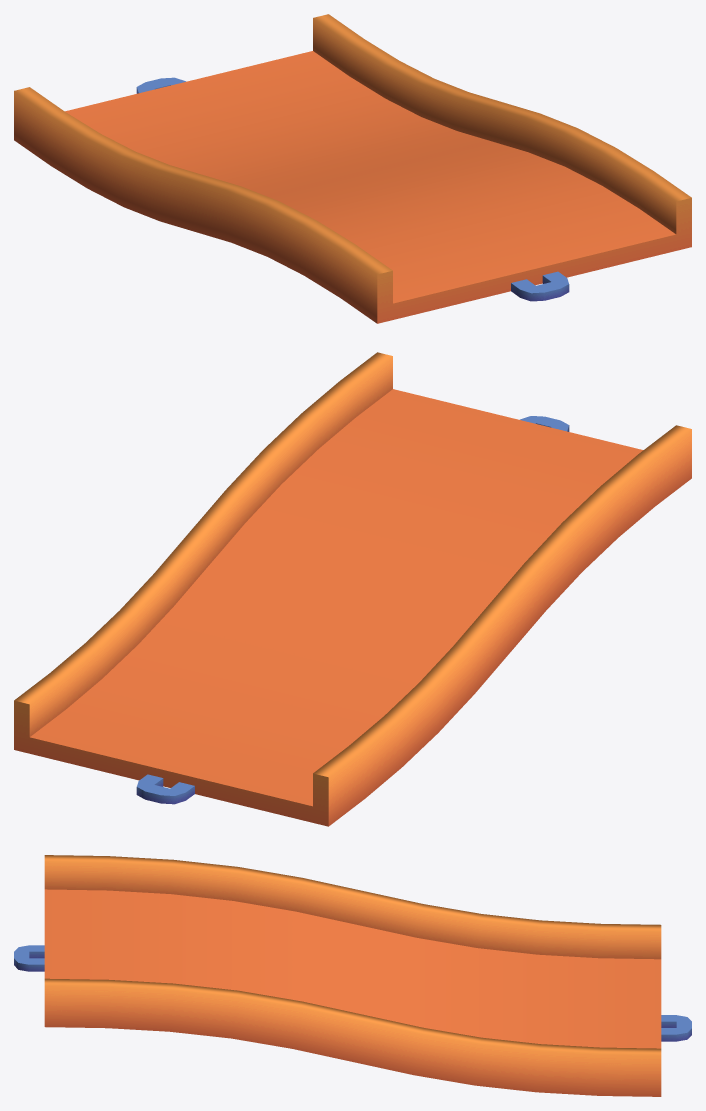
Rendered from track-wide-straight-hill-complete-half.glb.
3 renders of one model, top to bottom at view 1: azimuth 30°, elevation 25°; view 2: azimuth 150°, elevation 25°; view 3: azimuth 270°, elevation 25°, orthographic. The views are drawn at different scales.
Visible parts, largest first — view 1: track-wide-straight-hill-complete-half; view 2: track-wide-straight-hill-complete-half; view 3: track-wide-straight-hill-complete-half.
Part boxes in pixels (x1,y1,x2,y2): track-wide-straight-hill-complete-half: (14,14,691,323); track-wide-straight-hill-complete-half: (14,352,691,826); track-wide-straight-hill-complete-half: (14,855,691,1096).
Bounding box in the file's own units: 2 × 0.8 × 4.4.
1 material, 1 textured.
